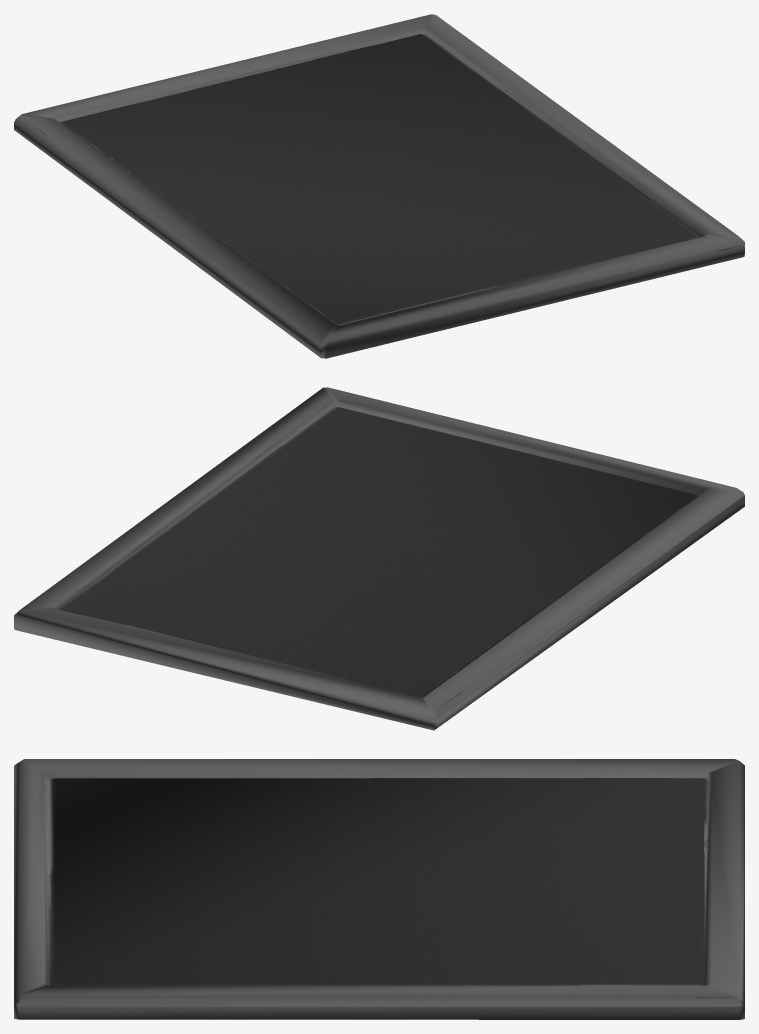
Rendered from door_mat.fbx.
The picture shows the model from 3 angles, top to bottom: view 1: azimuth 30°, elevation 25°; view 2: azimuth 150°, elevation 25°; view 3: azimuth 270°, elevation 25°; orthographic projection. The views are drawn at different scales.
Parts seen in each view (by area): view 1: Mesh_0; view 2: Mesh_0; view 3: Mesh_0.
Part boxes in pixels (box(x1,y1,x2,y2)): Mesh_0: box(14, 14, 744, 358); Mesh_0: box(14, 387, 744, 730); Mesh_0: box(14, 759, 744, 1019).
Bounding box in the file's own units: 74.71 × 3.03 × 94.97.
Materials: 1 (1 with a texture image).
